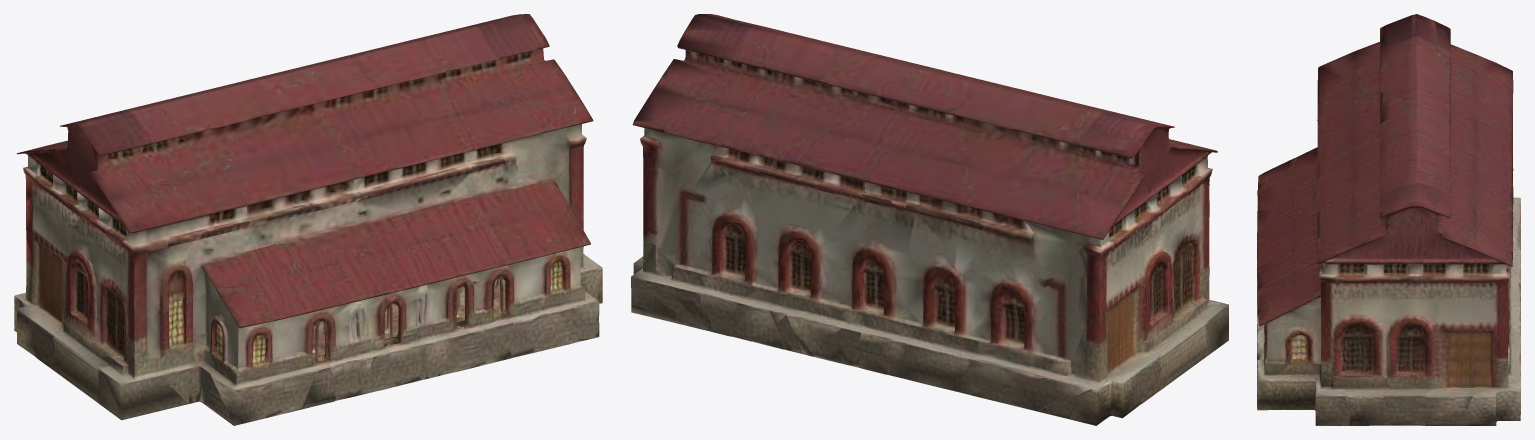
The model's file is planta_miraflores.glb.
3 views of the same model, side by side, from view 1: azimuth 30°, elevation 25°; view 2: azimuth 150°, elevation 25°; view 3: azimuth 270°, elevation 25° (orthographic). The views are drawn at different scales.
Parts seen in each view (by area): view 1: Mesh_0.001; view 2: Mesh_0.001; view 3: Mesh_0.001.
Boxes of the visible parts, box(x1,y1,x2,y2) form: Mesh_0.001: box(14, 14, 602, 425); Mesh_0.001: box(631, 14, 1228, 425); Mesh_0.001: box(1257, 14, 1520, 425).
Size of the model in its own units: 1.9 by 0.9417 by 1.05.
1 material, 1 textured.
